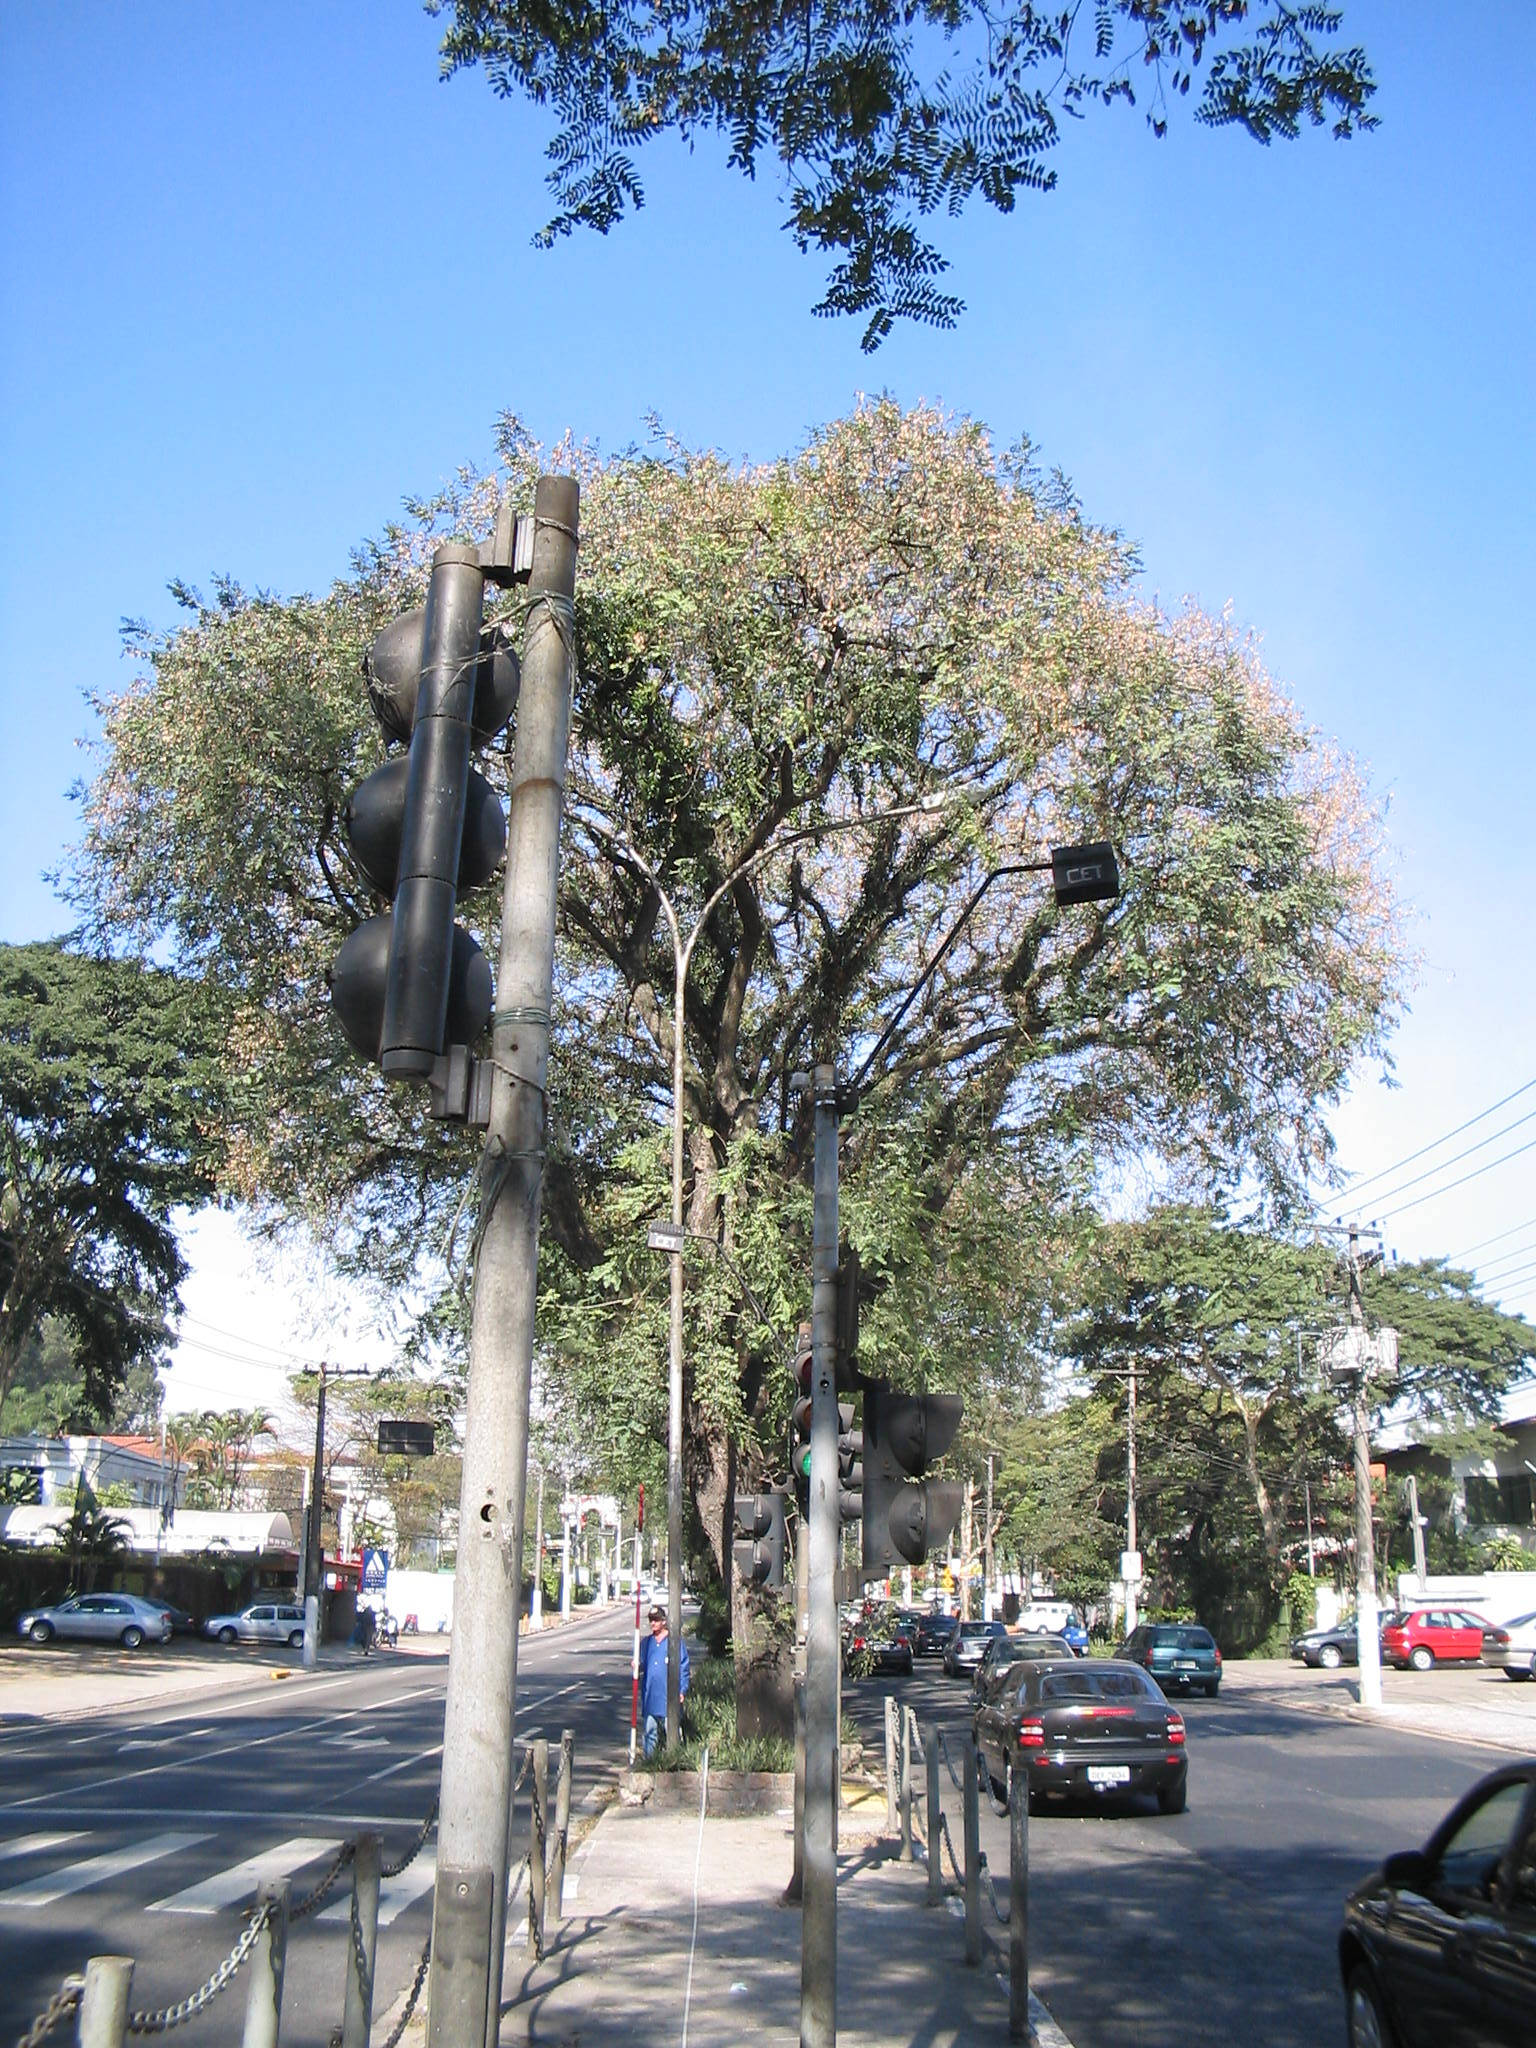crown: (61, 397, 1407, 1390), (1094, 1213, 1528, 1487)
stick: (611, 1476, 670, 1764)
tree: (56, 392, 1412, 1775), (1086, 1205, 1536, 1634)
